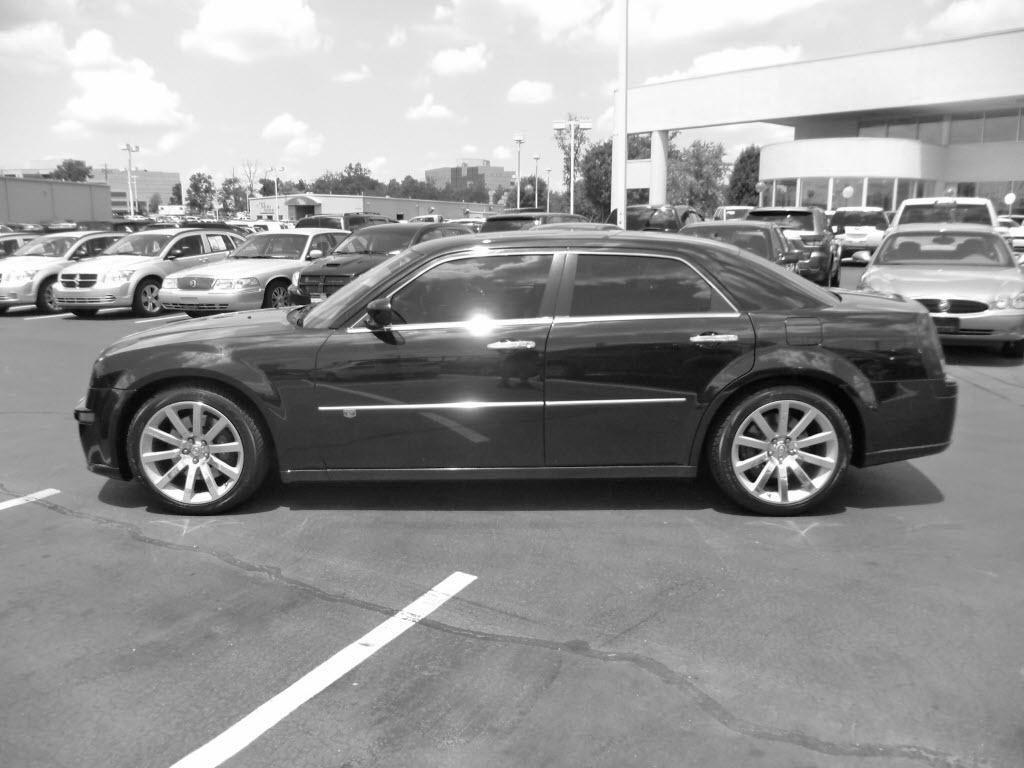car: (70, 222, 957, 519)
